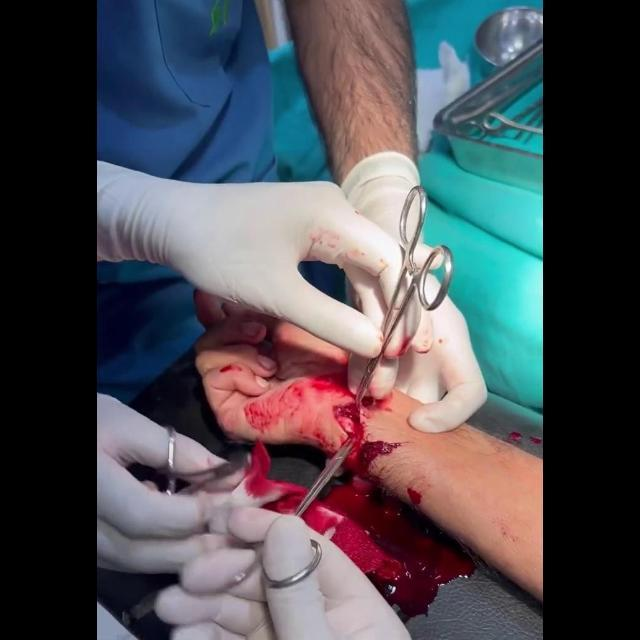blood: (323, 481, 477, 619), (302, 501, 402, 581), (243, 375, 348, 435), (338, 407, 405, 476), (331, 518, 403, 582), (232, 442, 304, 505), (302, 502, 344, 540), (356, 442, 401, 477), (300, 423, 342, 452), (350, 386, 389, 414), (500, 425, 538, 452), (311, 374, 348, 401), (393, 331, 418, 366), (263, 493, 303, 514), (404, 478, 426, 513), (214, 363, 243, 380)
